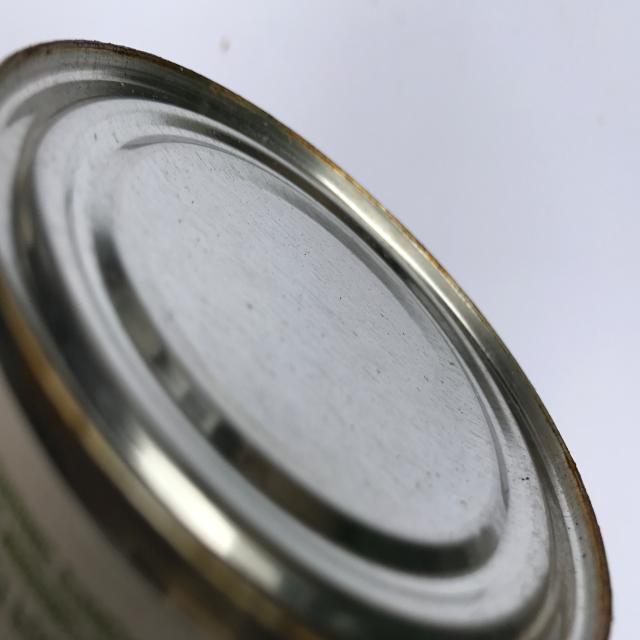metal: (0, 37, 614, 640)
